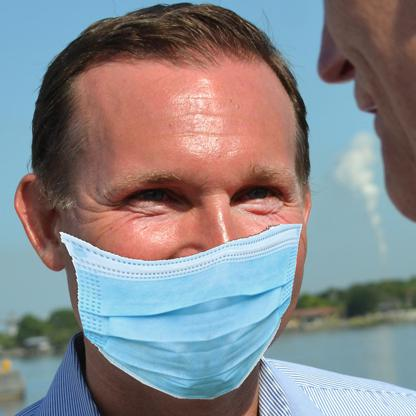mask: (54, 222, 306, 403)
